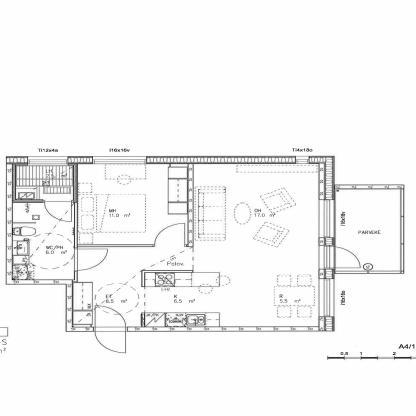door: (91, 304, 129, 354), (316, 244, 362, 272), (72, 246, 112, 273), (150, 222, 191, 248), (43, 199, 76, 223)
window: (315, 278, 339, 319), (316, 198, 338, 241), (89, 154, 152, 166), (23, 156, 69, 167), (292, 154, 312, 166)
